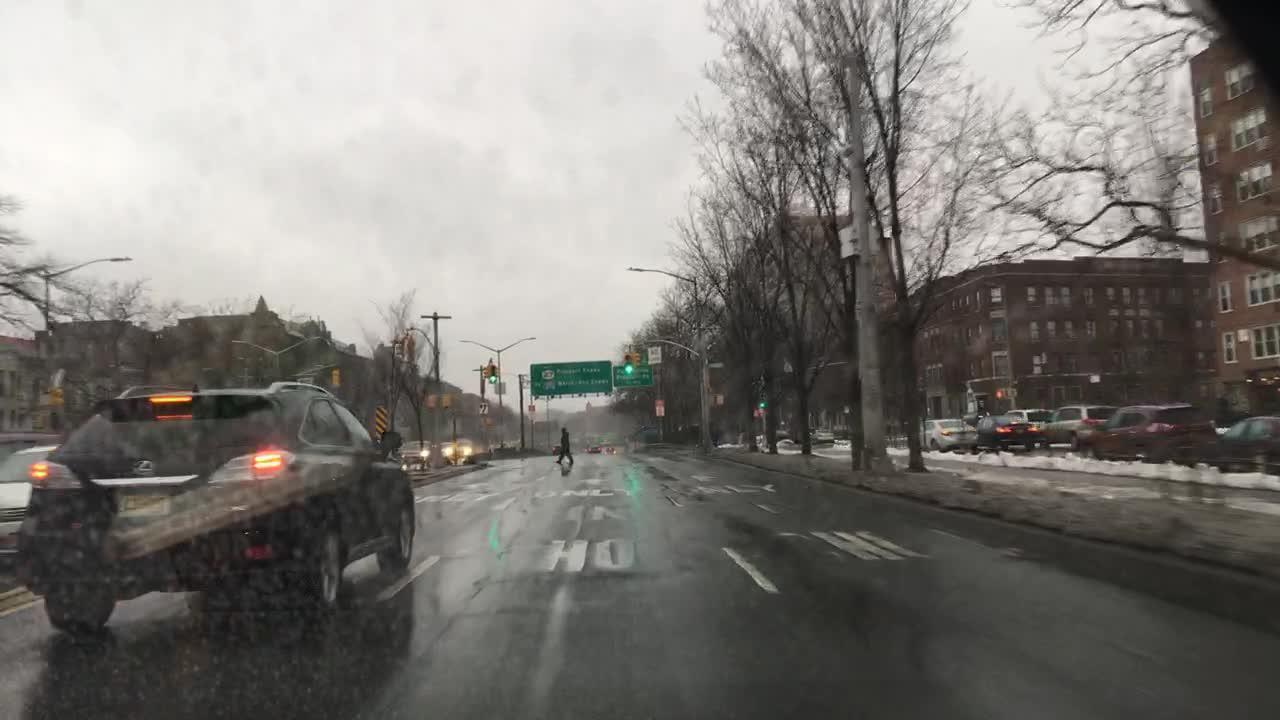lexus: (129, 451, 157, 477)
